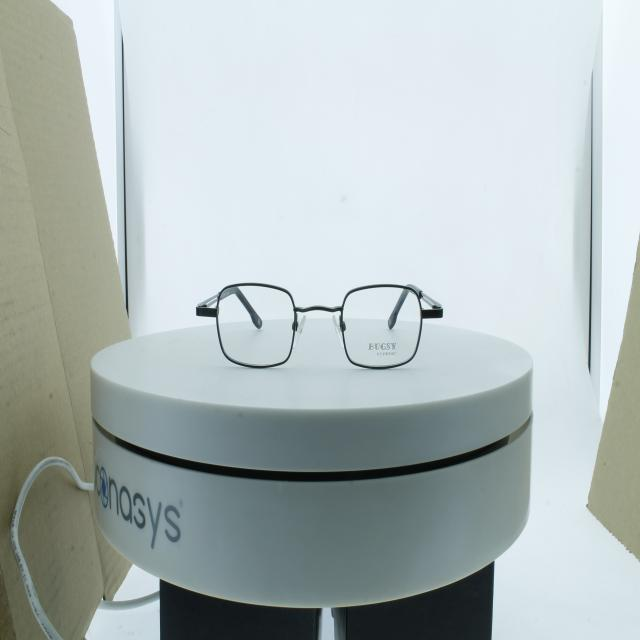Specs: (182, 260, 456, 398)
